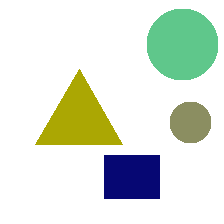circle: (147, 9, 217, 79), (170, 102, 210, 142)
rectangle: (104, 155, 159, 198)
triangle: (35, 69, 122, 144)
